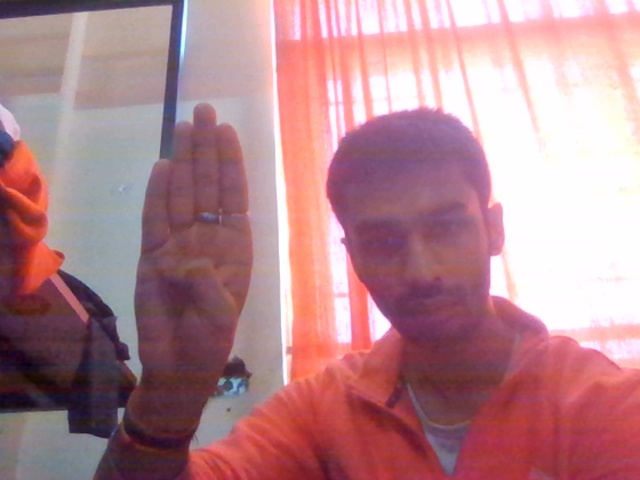B: (117, 83, 277, 460)
